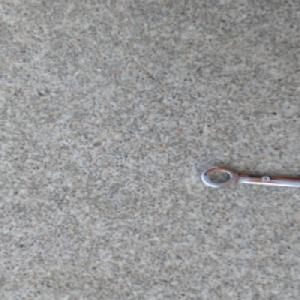Wrench: (197, 164, 300, 189)
